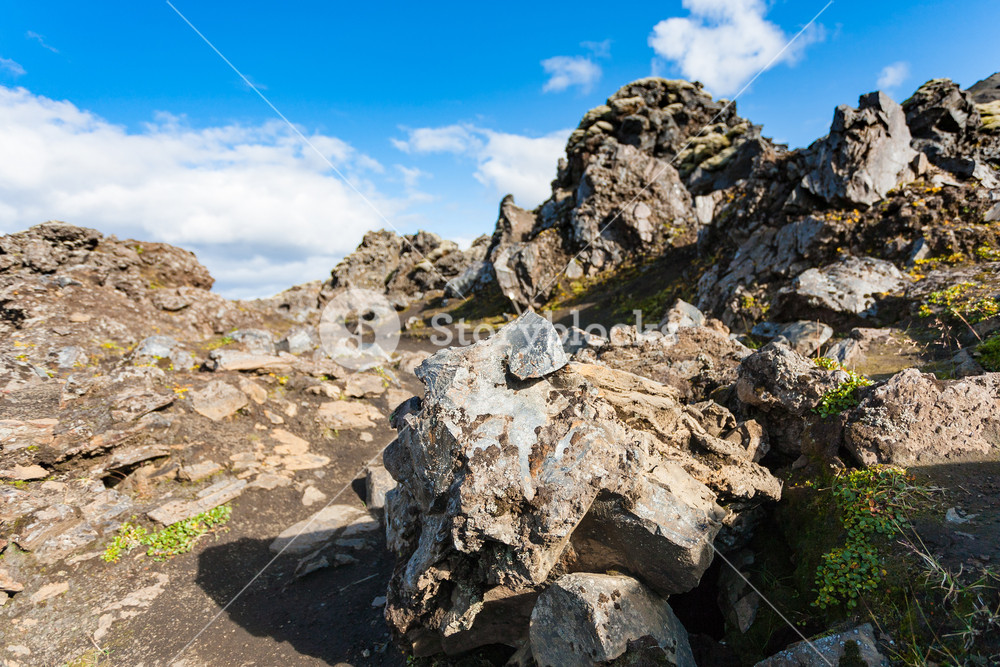volcanic_rock: (350, 350, 746, 648), (1, 250, 181, 381), (517, 572, 691, 667), (806, 92, 915, 223)
